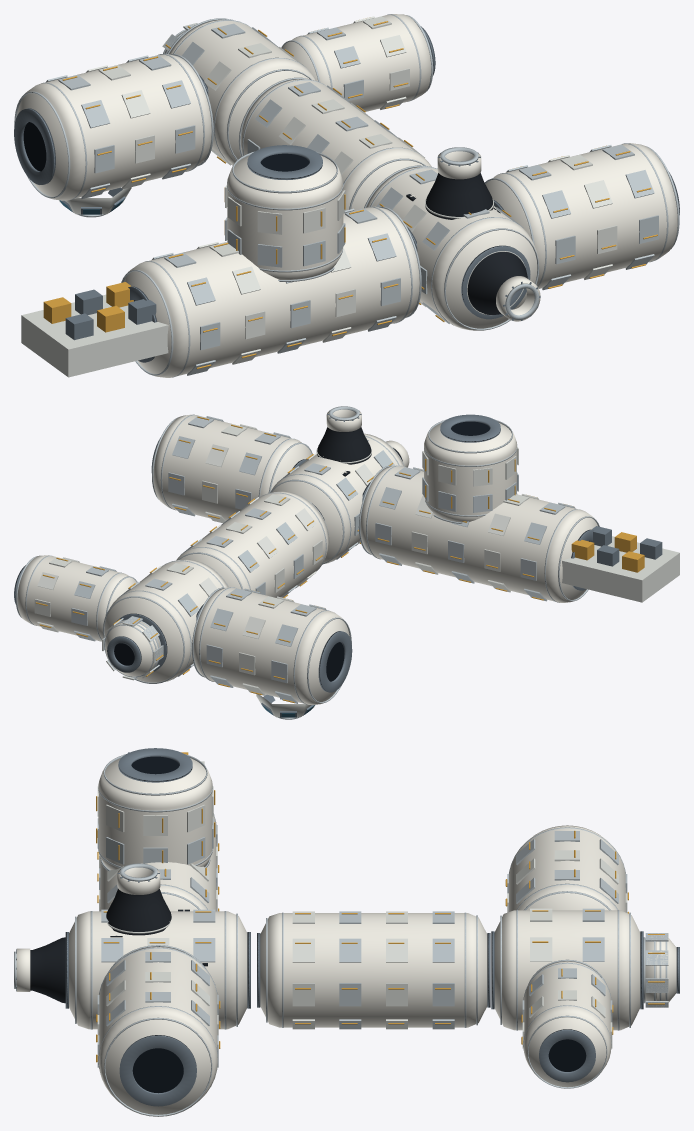
The model's file is iss_us_segment.glb.
3 renders of one model, top to bottom at view 1: azimuth 30°, elevation 25°; view 2: azimuth 150°, elevation 25°; view 3: azimuth 270°, elevation 25°, orthographic. The views are drawn at different scales.
Parts seen in each view (by area): view 1: kibo.mesh_Warm_white_enamel, tranquility.mesh_Warm_white_enamel, columbus.mesh_Warm_white_enamel, destiny.mesh_Warm_white_enamel, harmony.mesh_Warm_white_enamel, kibo_logistics.mesh_Warm_white_enamel, quest.mesh_Warm_white_enamel, unity.mesh_Warm_white_enamel, iss_us_segment.kibo_exposed_facility.mesh_Pale_thermal_blank, kibo.mesh_Satin_aluminum, tranquility.mesh_Satin_aluminum, columbus.mesh_Satin_aluminum (+24 smaller); view 2: kibo.mesh_Warm_white_enamel, tranquility.mesh_Warm_white_enamel, columbus.mesh_Warm_white_enamel, destiny.mesh_Warm_white_enamel, unity.mesh_Warm_white_enamel, kibo_logistics.mesh_Warm_white_enamel, quest.mesh_Warm_white_enamel, harmony.mesh_Warm_white_enamel, iss_us_segment.kibo_exposed_facility.mesh_Pale_thermal_blank, kibo.mesh_Satin_aluminum, tranquility.mesh_Satin_aluminum, columbus.mesh_Satin_aluminum (+22 smaller); view 3: destiny.mesh_Warm_white_enamel, columbus.mesh_Warm_white_enamel, unity.mesh_Warm_white_enamel, harmony.mesh_Warm_white_enamel, kibo_logistics.mesh_Warm_white_enamel, tranquility.mesh_Warm_white_enamel, quest.mesh_Warm_white_enamel, destiny.mesh_Satin_aluminum, destiny.mesh_Pale_thermal_blanket, columbus.mesh_Satin_aluminum, kibo.mesh_Warm_white_enamel, columbus.axial_hatch_b.mesh_Machined_steel (+22 smaller).
Part boxes in pixels (left/top/right/bottom): kibo.mesh_Warm_white_enamel: left=124, top=206, right=419, bottom=377; tranquility.mesh_Warm_white_enamel: left=17, top=54, right=211, bottom=200; columbus.mesh_Warm_white_enamel: left=485, top=143, right=677, bottom=288; destiny.mesh_Warm_white_enamel: left=240, top=79, right=431, bottom=210; harmony.mesh_Warm_white_enamel: left=366, top=167, right=538, bottom=330; kibo_logistics.mesh_Warm_white_enamel: left=227, top=155, right=343, bottom=279; quest.mesh_Warm_white_enamel: left=282, top=14, right=431, bottom=111; unity.mesh_Warm_white_enamel: left=169, top=20, right=316, bottom=165; iss_us_segment.kibo_exposed_facility.mesh_Pale_thermal_blank: left=21, top=294, right=168, bottom=377; kibo.mesh_Satin_aluminum: left=121, top=206, right=421, bottom=377; tranquility.mesh_Satin_aluminum: left=14, top=53, right=213, bottom=200; columbus.mesh_Satin_aluminum: left=484, top=143, right=679, bottom=290; kibo.mesh_Warm_white_enamel: left=360, top=465, right=597, bottom=602; tranquility.mesh_Warm_white_enamel: left=193, top=587, right=349, bottom=704; columbus.mesh_Warm_white_enamel: left=153, top=414, right=311, bottom=520; destiny.mesh_Warm_white_enamel: left=176, top=491, right=329, bottom=597; unity.mesh_Warm_white_enamel: left=104, top=559, right=228, bottom=682; kibo_logistics.mesh_Warm_white_enamel: left=424, top=423, right=516, bottom=522; quest.mesh_Warm_white_enamel: left=17, top=555, right=136, bottom=641; harmony.mesh_Warm_white_enamel: left=271, top=433, right=404, bottom=563; iss_us_segment.kibo_exposed_facility.mesh_Pale_thermal_blank: left=562, top=536, right=679, bottom=602; kibo.mesh_Satin_aluminum: left=358, top=465, right=599, bottom=602; tranquility.mesh_Satin_aluminum: left=192, top=587, right=351, bottom=704; columbus.mesh_Satin_aluminum: left=152, top=414, right=312, bottom=516; destiny.mesh_Warm_white_enamel: left=260, top=913, right=487, bottom=1027; columbus.mesh_Warm_white_enamel: left=98, top=947, right=217, bottom=1116; unity.mesh_Warm_white_enamel: left=494, top=910, right=640, bottom=1030; harmony.mesh_Warm_white_enamel: left=69, top=911, right=247, bottom=1029; kibo_logistics.mesh_Warm_white_enamel: left=98, top=758, right=212, bottom=869; tranquility.mesh_Warm_white_enamel: left=508, top=825, right=626, bottom=912; quest.mesh_Warm_white_enamel: left=523, top=961, right=611, bottom=1087; destiny.mesh_Satin_aluminum: left=266, top=911, right=477, bottom=1029; destiny.mesh_Pale_thermal_blanket: left=292, top=911, right=407, bottom=1029; columbus.mesh_Satin_aluminum: left=97, top=945, right=218, bottom=1116; kibo.mesh_Warm_white_enamel: left=99, top=815, right=216, bottom=911; columbus.axial_hatch_b.mesh_Machined_steel: left=119, top=1035, right=196, bottom=1106.
Bounding box in the file's own units: 26.3 × 8.44 × 25.07.
